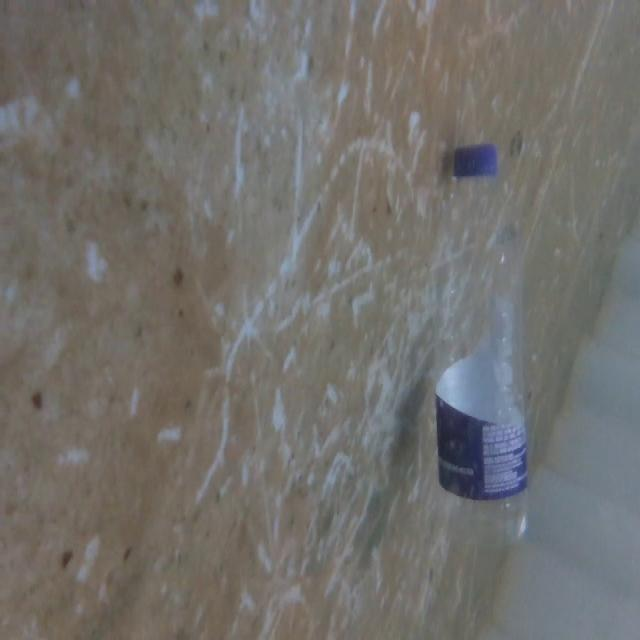plastic bottle: (428, 137, 541, 555)
